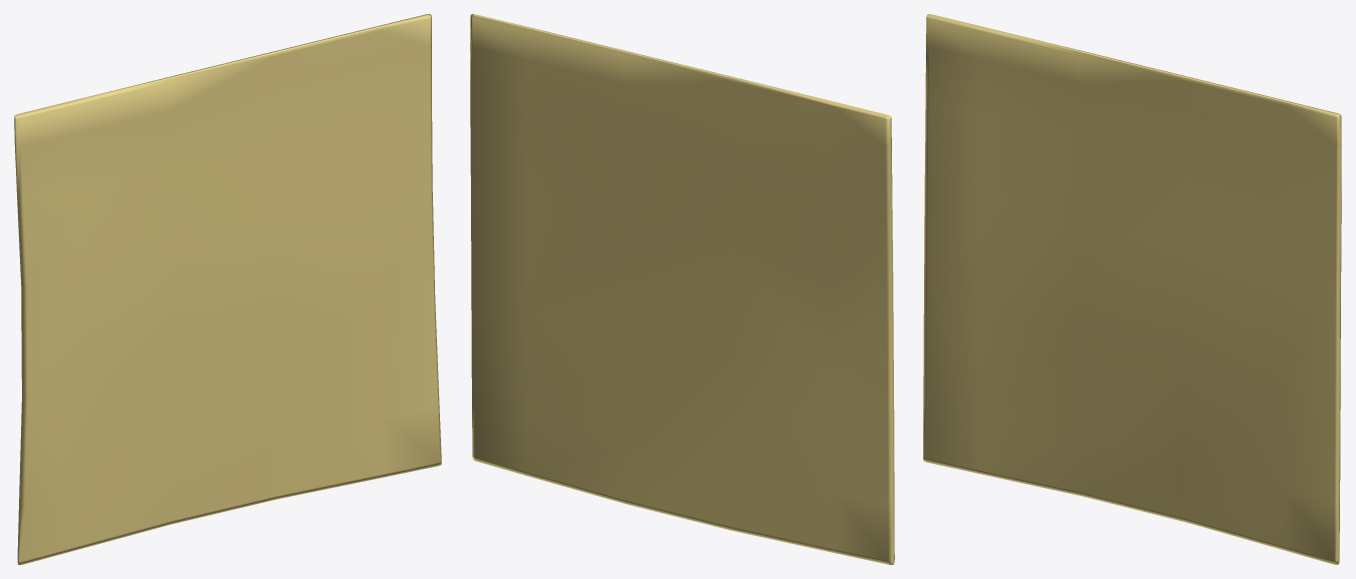
Rendered from postit_main_no_ani.fbx.
The picture shows the model from 3 angles, left to right: view 1: azimuth 30°, elevation 25°; view 2: azimuth 150°, elevation 25°; view 3: azimuth 330°, elevation 25°; orthographic projection.
Visible parts, largest first — view 1: memo23; view 2: memo23; view 3: memo23.
Boxes of the visible parts, x1=… form: memo23: x1=14, y1=14, x2=441, y2=564; memo23: x1=470, y1=14, x2=894, y2=564; memo23: x1=923, y1=14, x2=1341, y2=564.
Bounding box in the file's own units: 7.45 × 7.59 × 0.3067.
